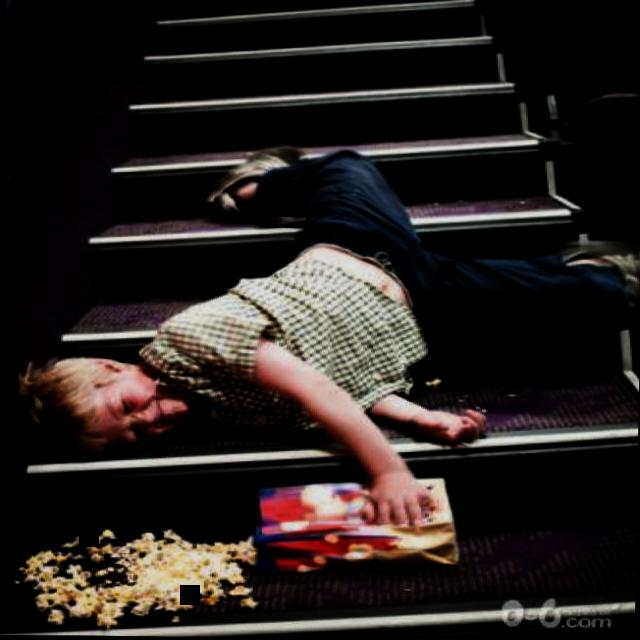Fall-Detected: (0, 105, 640, 521)
